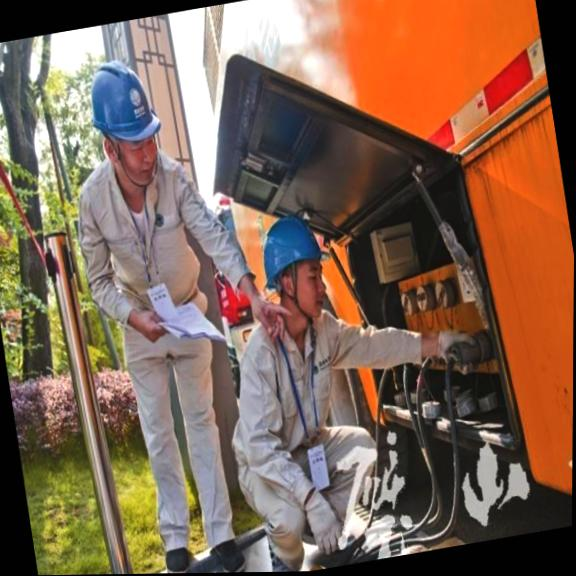no_safety_vest: (235, 307, 368, 546), (73, 159, 213, 379)
